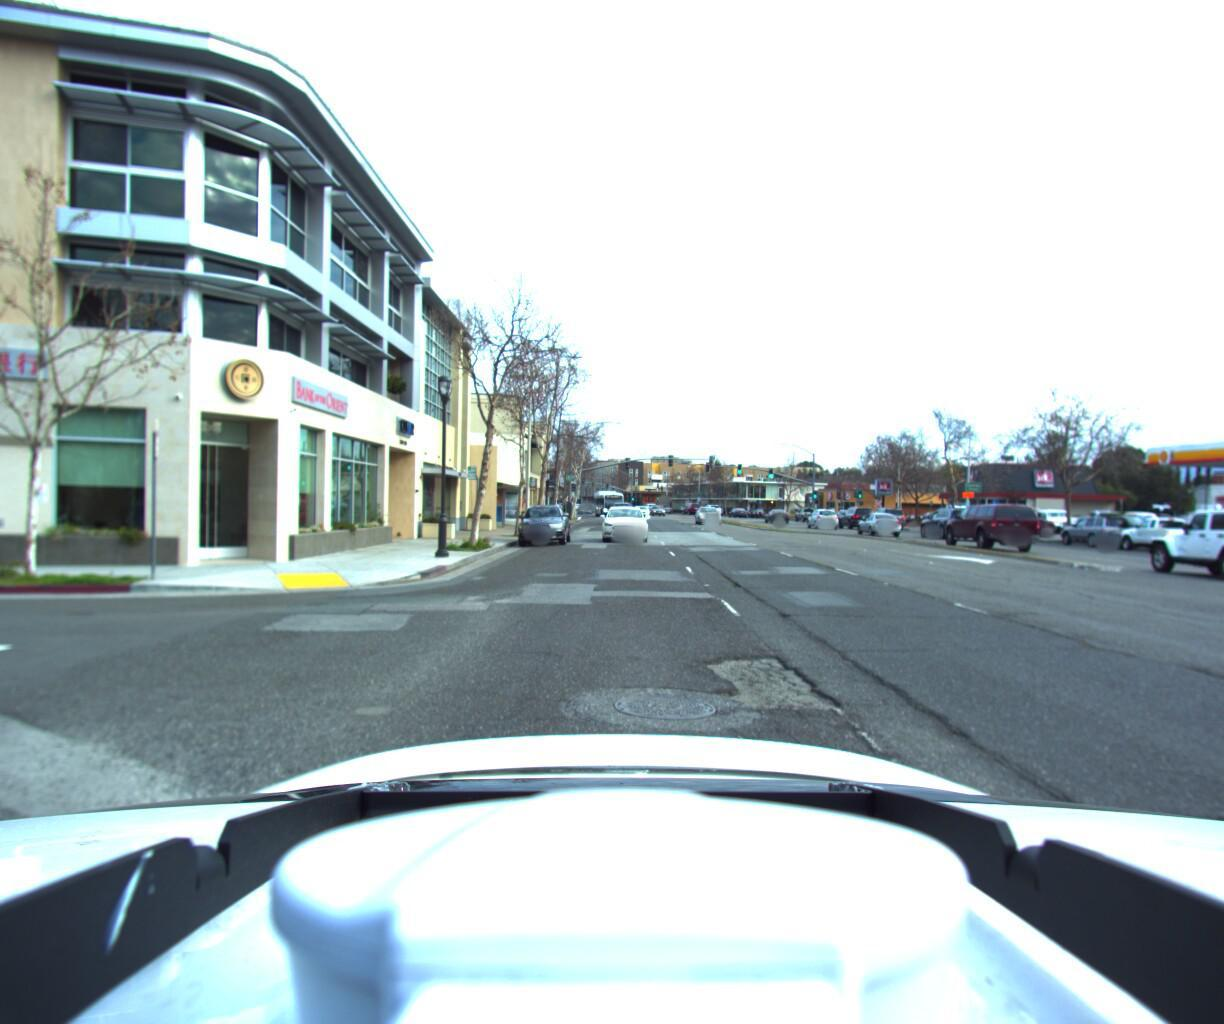car: (1127, 498, 1224, 581), (932, 500, 1030, 549), (1112, 513, 1217, 555), (1053, 511, 1135, 548), (511, 500, 569, 548), (981, 513, 1055, 539), (597, 504, 646, 543), (1115, 506, 1178, 533), (849, 509, 899, 534), (1031, 506, 1078, 532), (837, 503, 875, 527), (864, 505, 903, 529), (803, 507, 837, 527), (696, 506, 722, 526), (761, 507, 787, 522)
